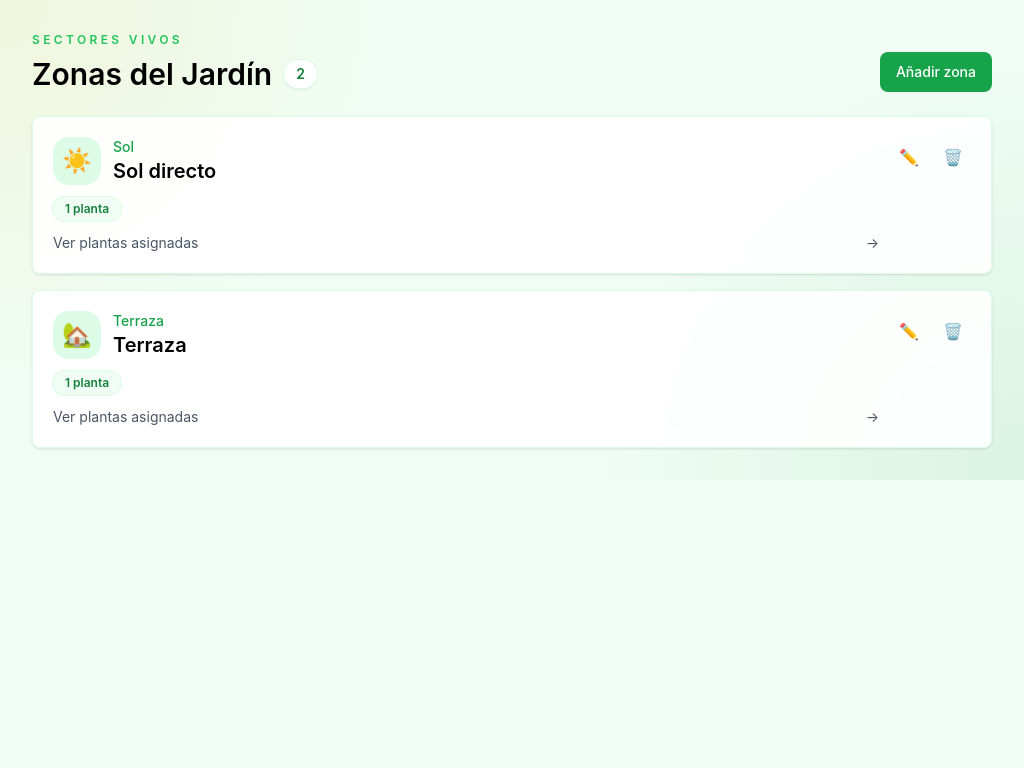
Scenario: Zones page › shows delete protection when the zone has assigned plants
Click the button named "Eliminar zona Sol directo".
click(953, 157)  # box [935, 137, 971, 177]
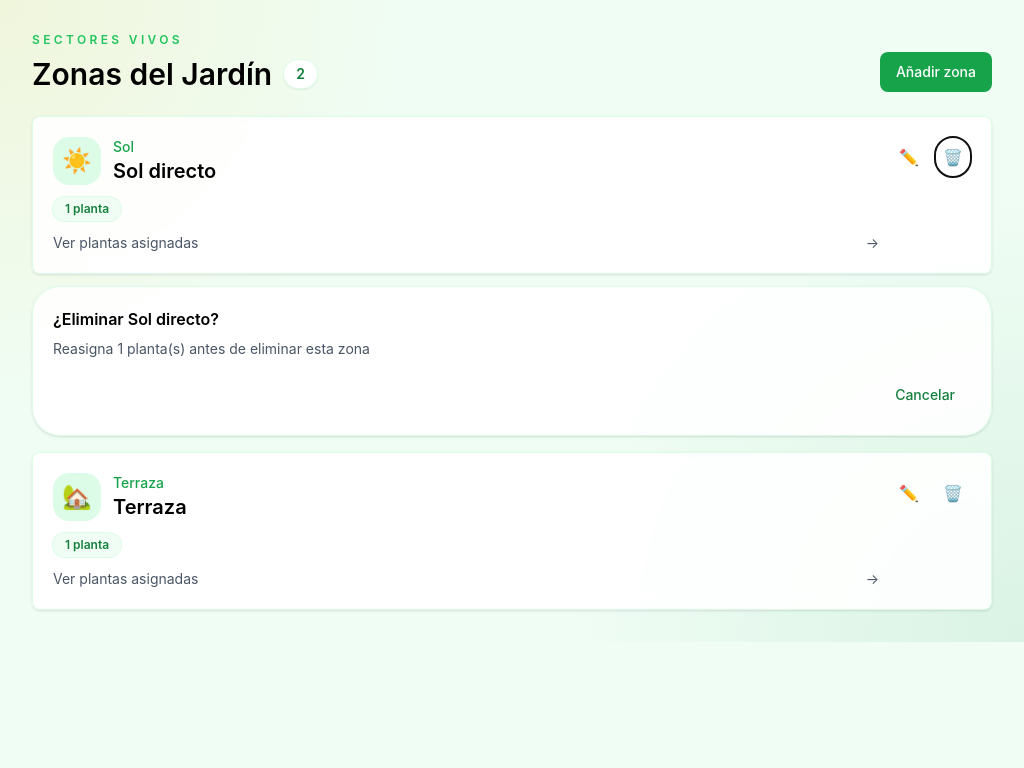
Expected: the text "Reasigna 1 planta(s) antes de eliminar esta zona" is shown, [53, 340, 370, 357]
